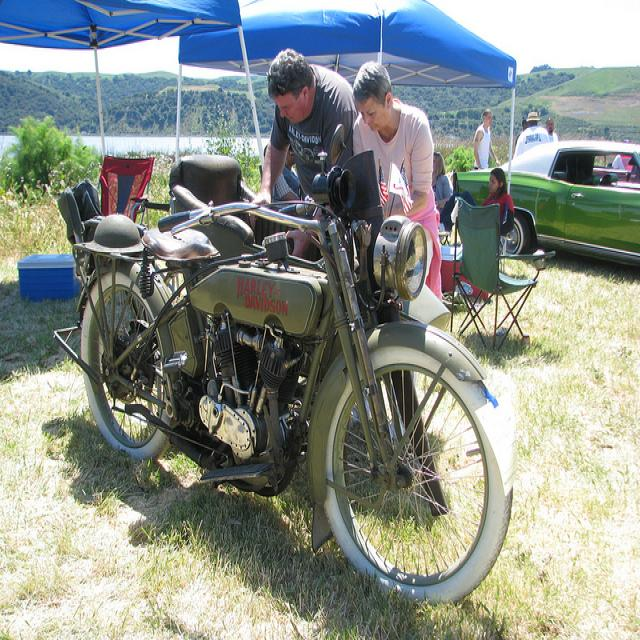motor: (57, 124, 509, 589)
